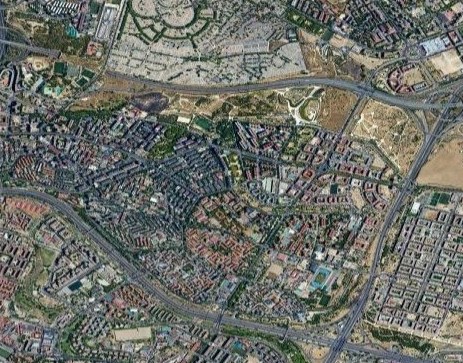bridge: (429, 89, 461, 122), (328, 327, 350, 354), (210, 303, 230, 330), (123, 264, 145, 284), (362, 265, 384, 283)
motorway: (164, 292, 274, 340), (391, 117, 443, 217), (349, 216, 401, 316), (275, 322, 386, 363), (255, 63, 366, 104), (144, 65, 255, 106), (374, 78, 463, 124), (115, 258, 165, 313), (68, 207, 117, 262), (1, 179, 70, 215), (1, 31, 52, 61)
